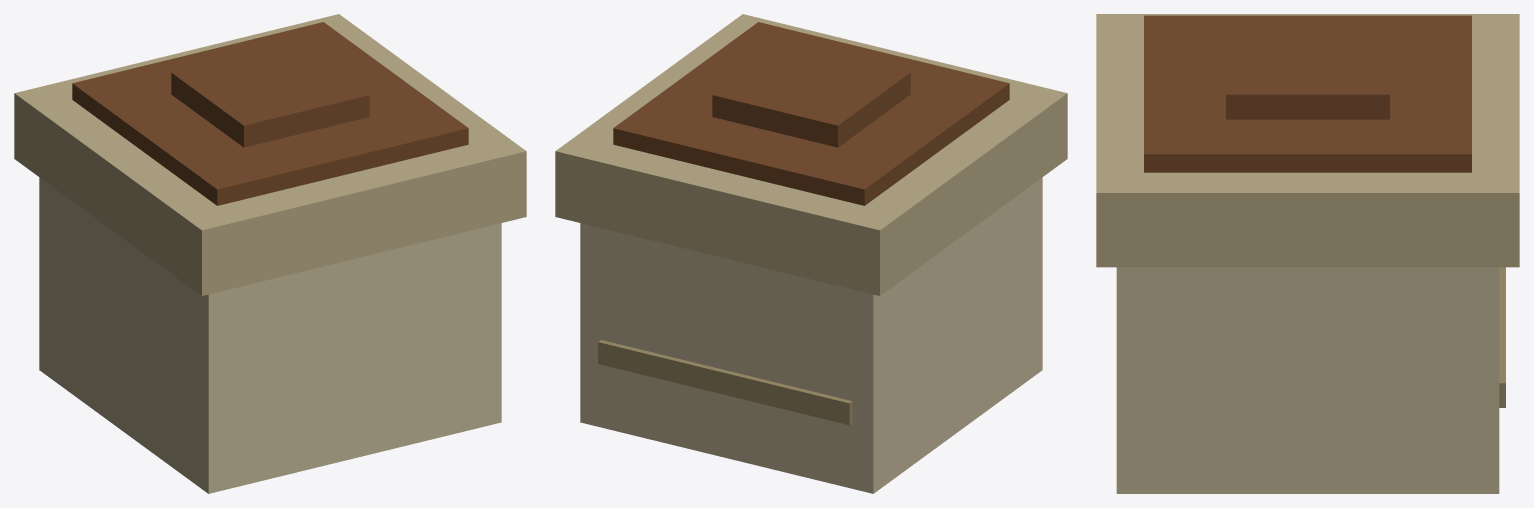
Rendered from cp-sack-beans.glb.
3 renders of one model, left to right at view 1: azimuth 30°, elevation 25°; view 2: azimuth 150°, elevation 25°; view 3: azimuth 270°, elevation 25°, orthographic. The views are drawn at different scales.
Parts seen in each view (by area): view 1: box-prop; view 2: box-prop; view 3: box-prop.
Boxes of the visible parts, x1=… form: box-prop: x1=14, y1=14, x2=526, y2=493; box-prop: x1=555, y1=14, x2=1067, y2=493; box-prop: x1=1096, y1=14, x2=1519, y2=493.
Bounding box in the file's own units: 0.62 × 0.57 × 0.62.
